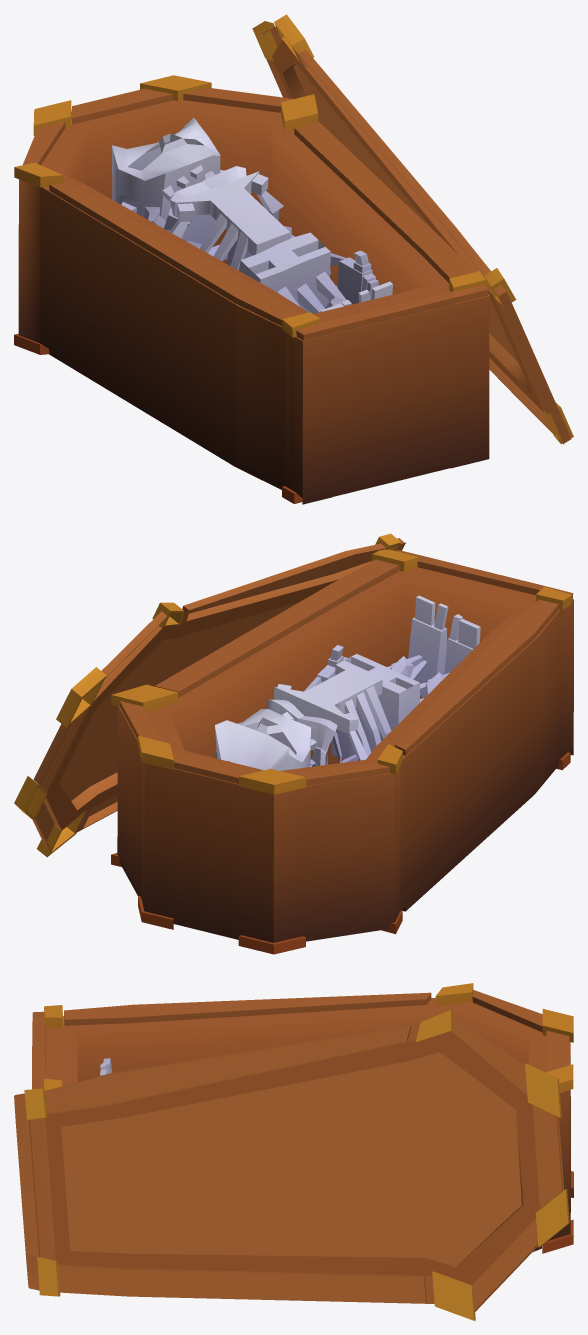
File: coffinopen.fbx
3 views of the same model, one above another, from view 1: azimuth 30°, elevation 25°; view 2: azimuth 150°, elevation 25°; view 3: azimuth 270°, elevation 25° (orthographic). The views are drawn at different scales.
Visible parts, largest first — view 1: coffinopen, skeleton.001; view 2: coffinopen, skeleton.001; view 3: coffinopen.
Part boxes in pixels (x1,y1,x2,y2): coffinopen: (14, 14, 573, 504); skeleton.001: (112, 117, 392, 313); coffinopen: (14, 533, 573, 954); skeleton.001: (215, 595, 480, 770); coffinopen: (14, 983, 573, 1320).
Bounding box in the file's own units: 15.41 × 11.07 × 21.37.
